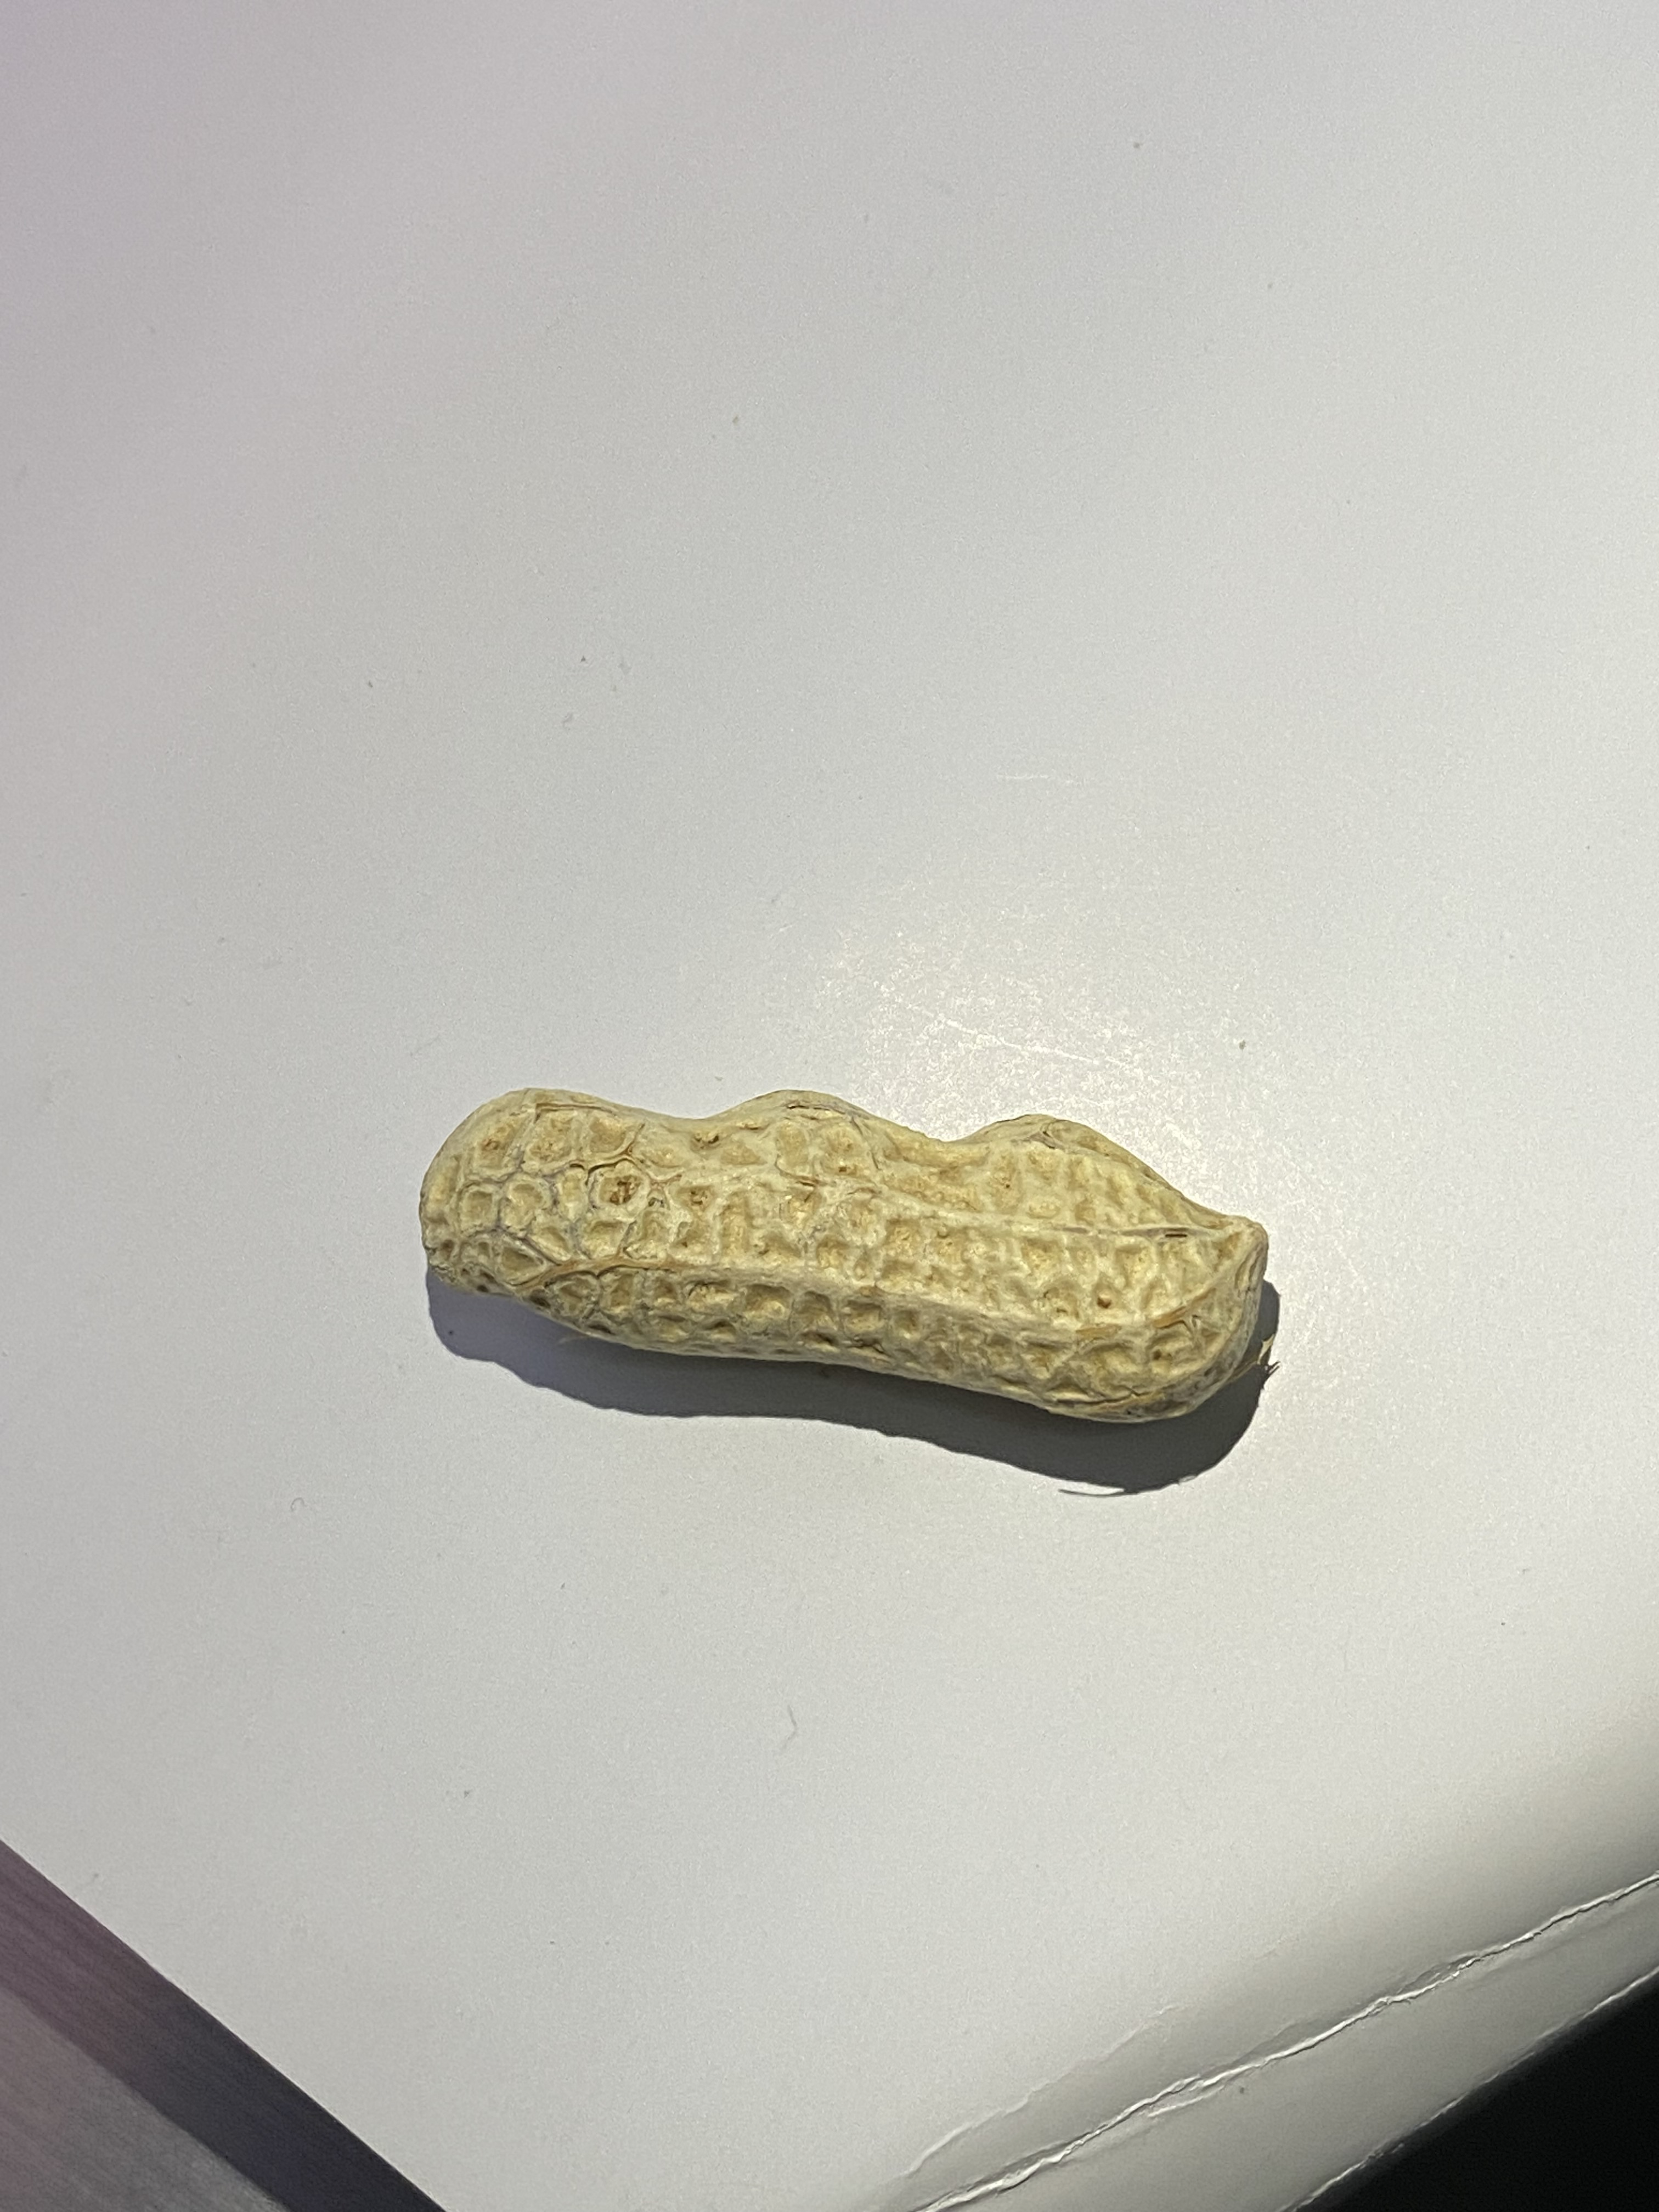kacang3: (371, 1049, 1314, 1456)
